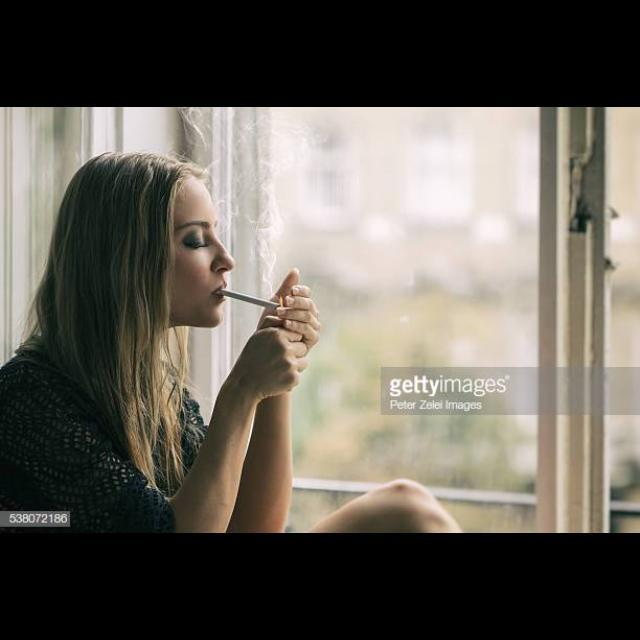rokok: (216, 283, 288, 313)
